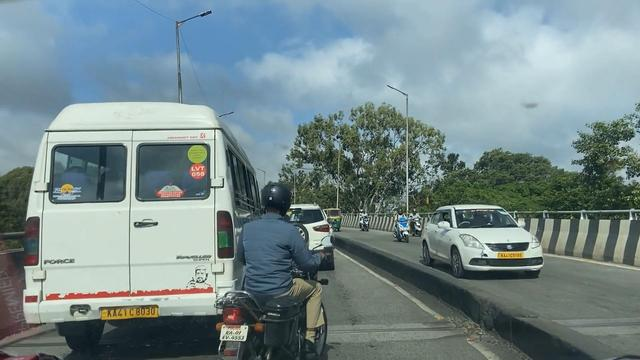HMV: (21, 97, 237, 337)
LMV: (216, 186, 334, 360)
SpeedBump: (313, 318, 460, 340)
